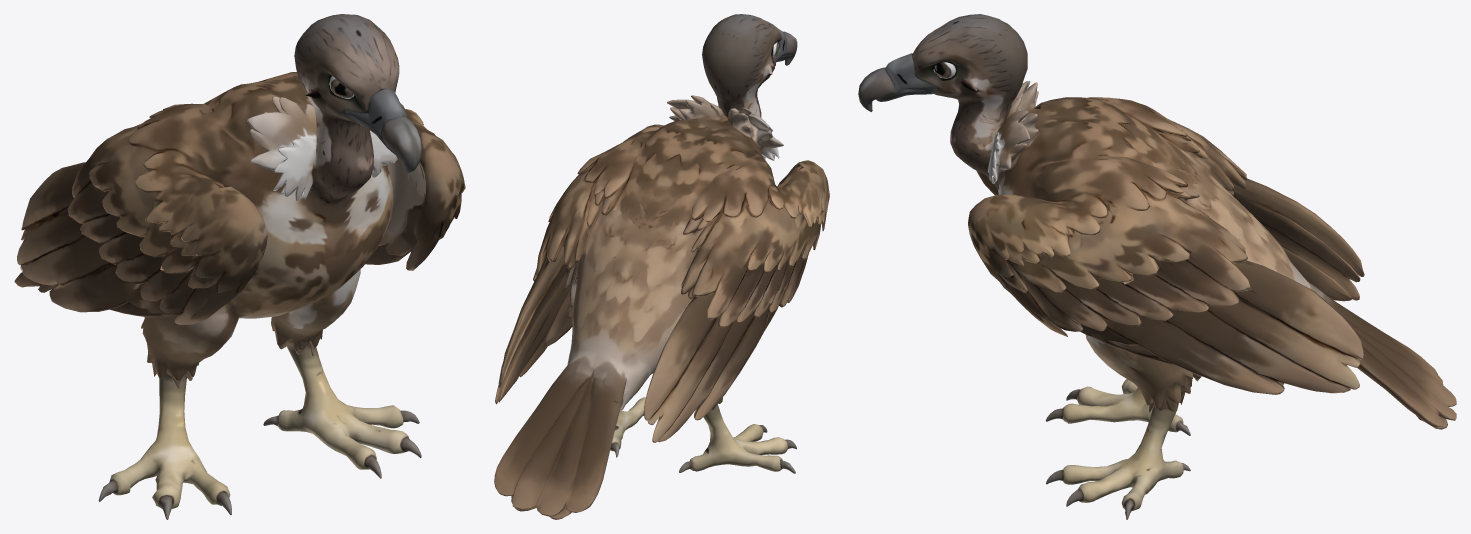
The model's file is Pok63. Guirral.glb.
3 renders of one model, left to right at view 1: azimuth 30°, elevation 25°; view 2: azimuth 150°, elevation 25°; view 3: azimuth 270°, elevation 25°, orthographic. The views are drawn at different scales.
Parts seen in each view (by area): view 1: geometry_0; view 2: geometry_0; view 3: geometry_0.
Part boxes in pixels (x1,y1,x2,y2): geometry_0: (14,14,465,519); geometry_0: (494,14,829,519); geometry_0: (858,14,1456,519).
Bounding box in the file's own units: 0.5034 × 0.7607 × 0.9497.
1 material, 1 textured.
